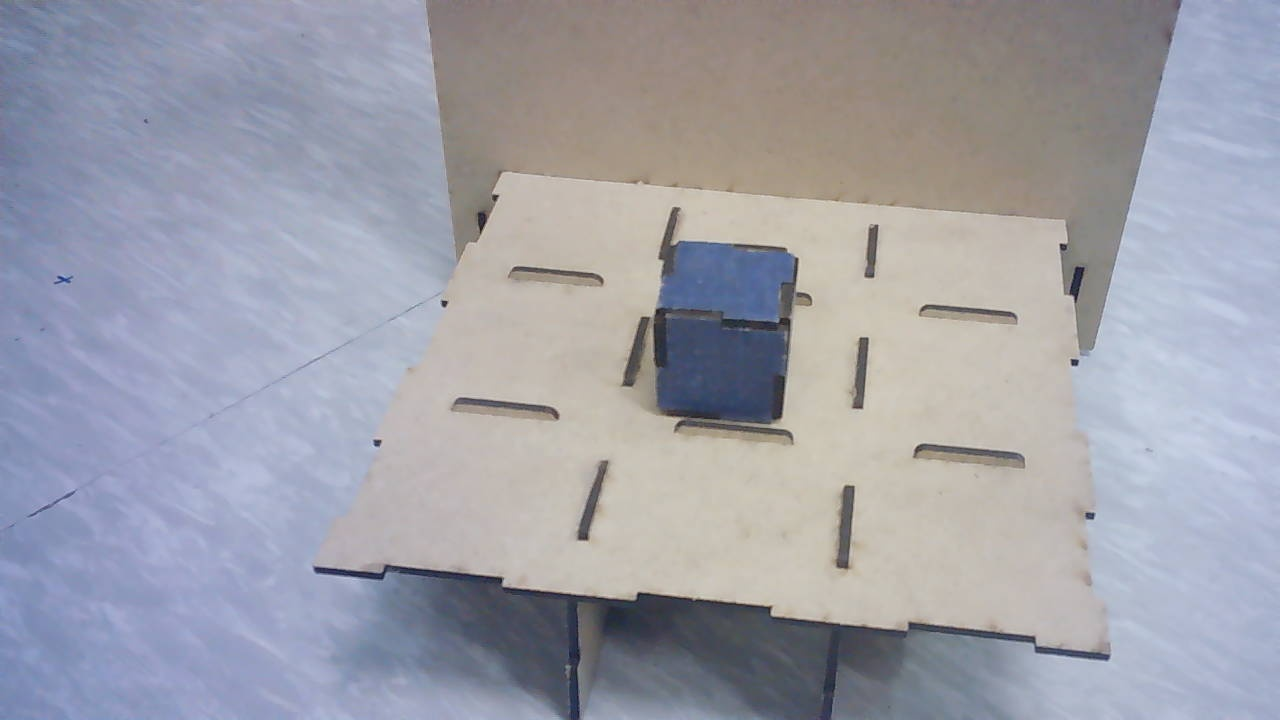blue: (647, 237, 801, 435)
